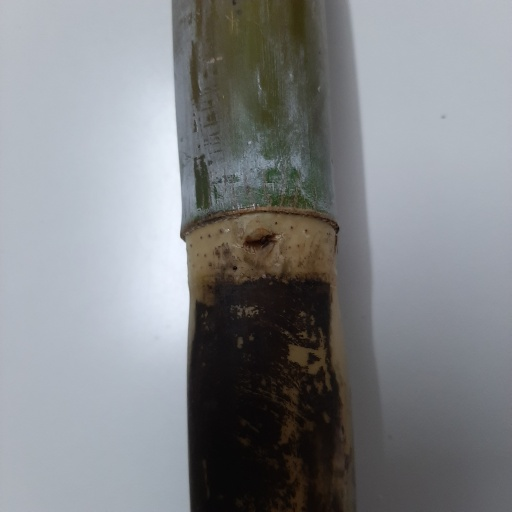Damage_Bud: (243, 228, 282, 272)
